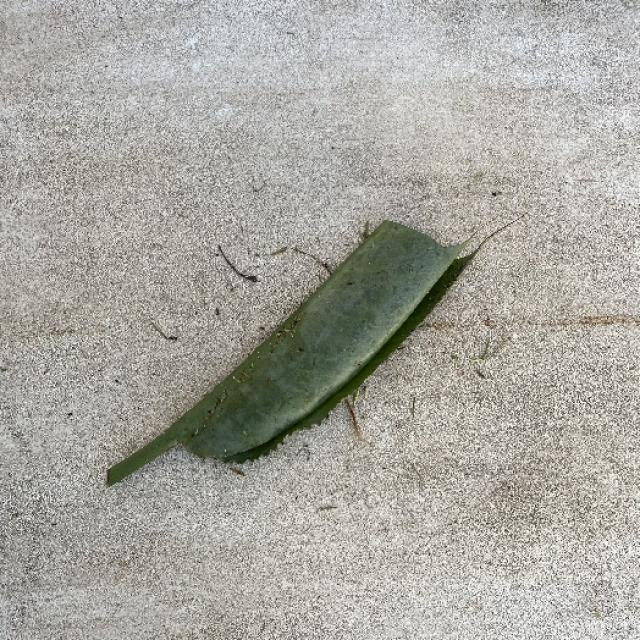organik: (96, 220, 490, 510)
